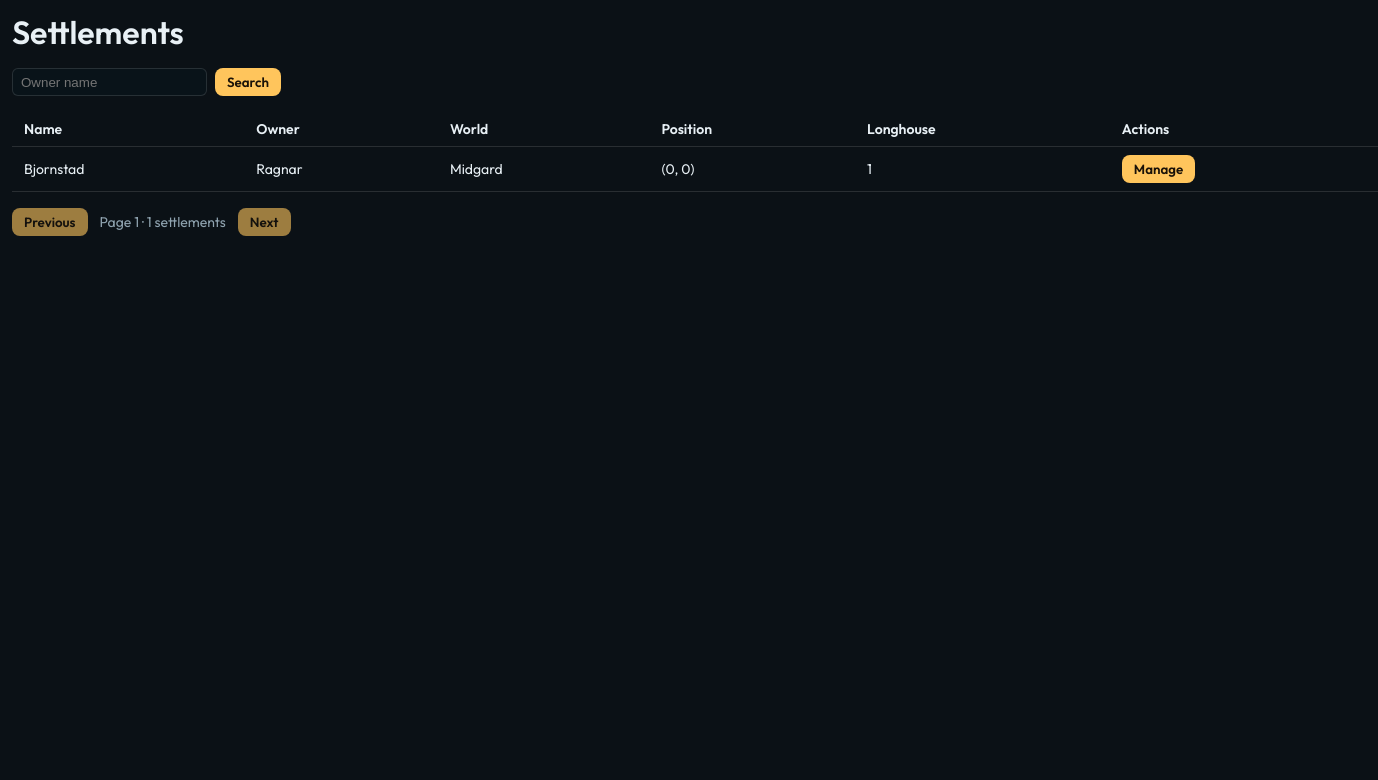
Test: AdminSettlementsView › creates troops straight into the garrison
Click the button "Manage".
click(1158, 169)  # box [1122,155,1195,183]
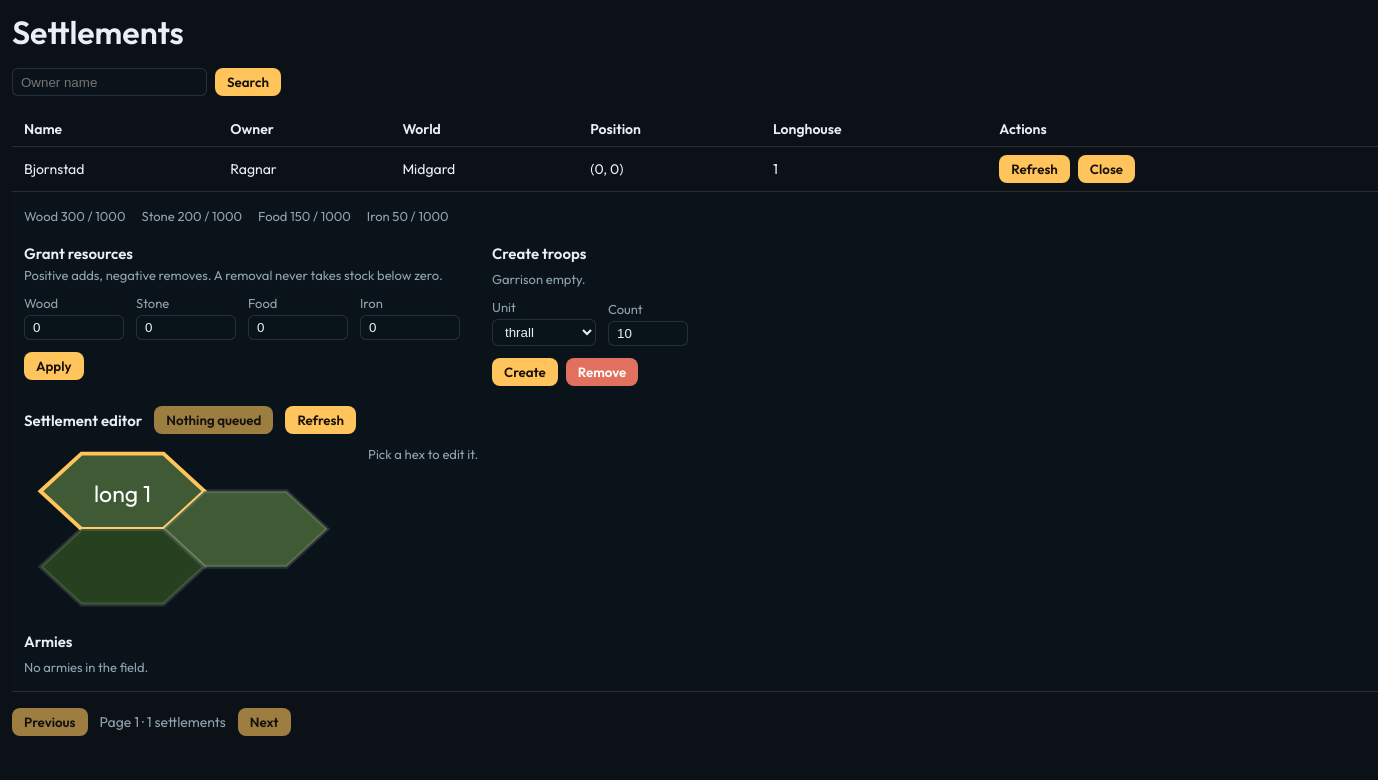
Select "spearman" in the dropdown labelled "Unit" at (544, 332), box [492,319,596,346]
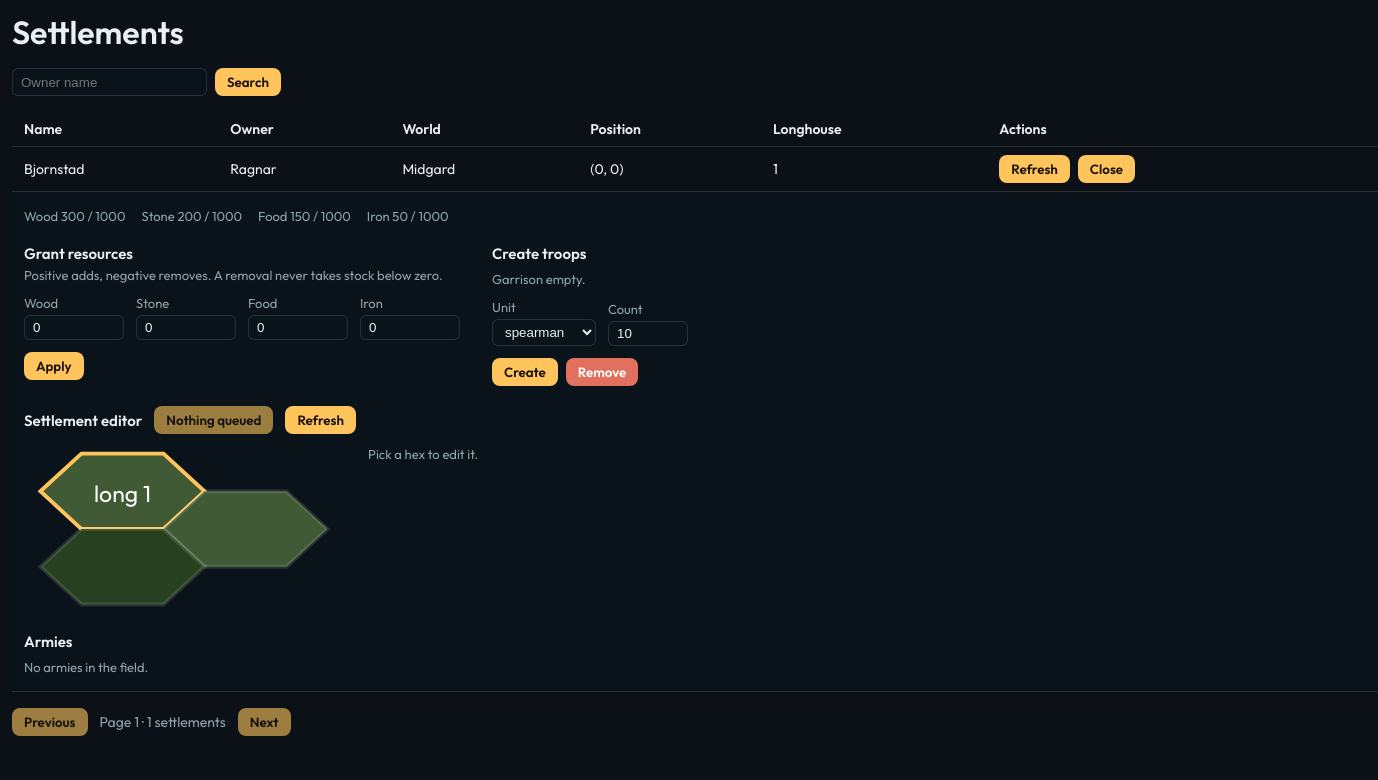
Submit the form with class "garrison-form", box [492,244,688,386]
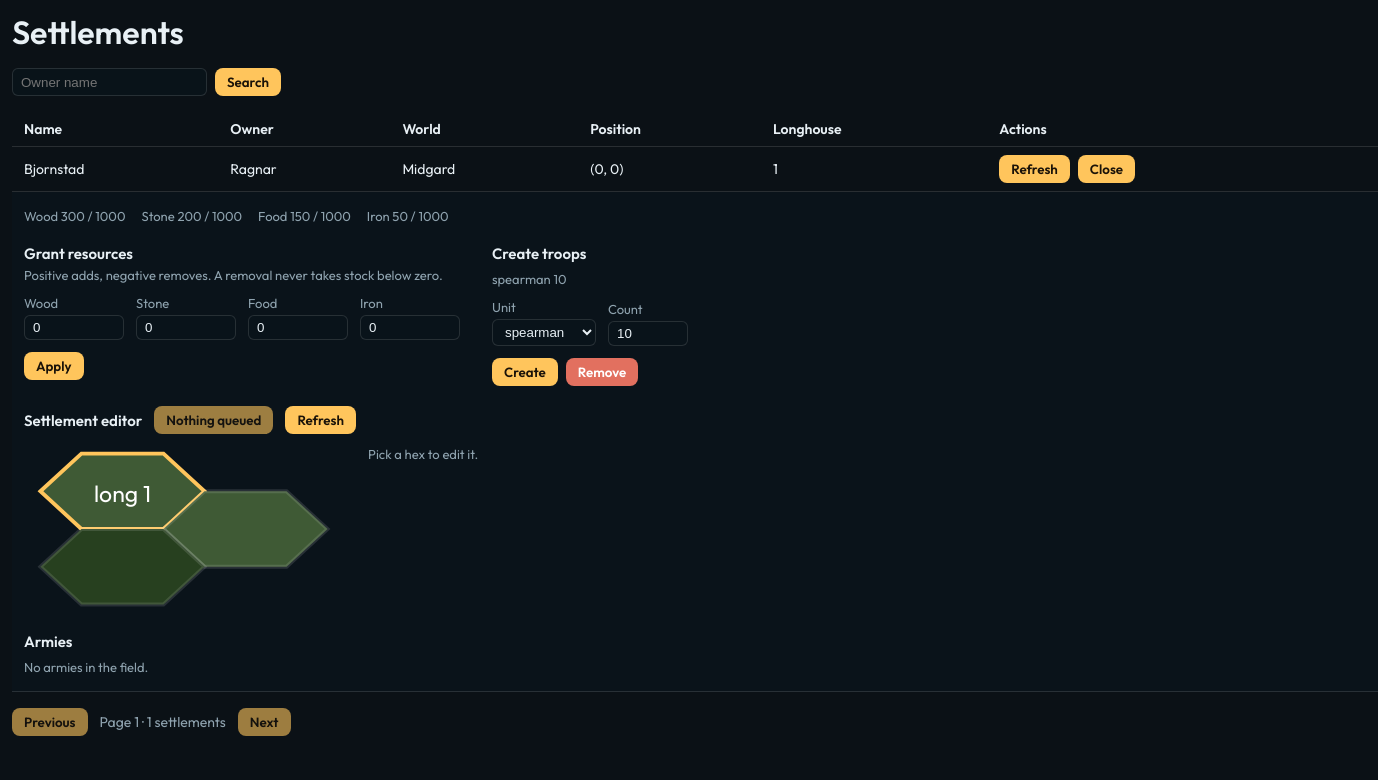
Expected: the text "spearman 10" is shown, [492,271,566,287]
